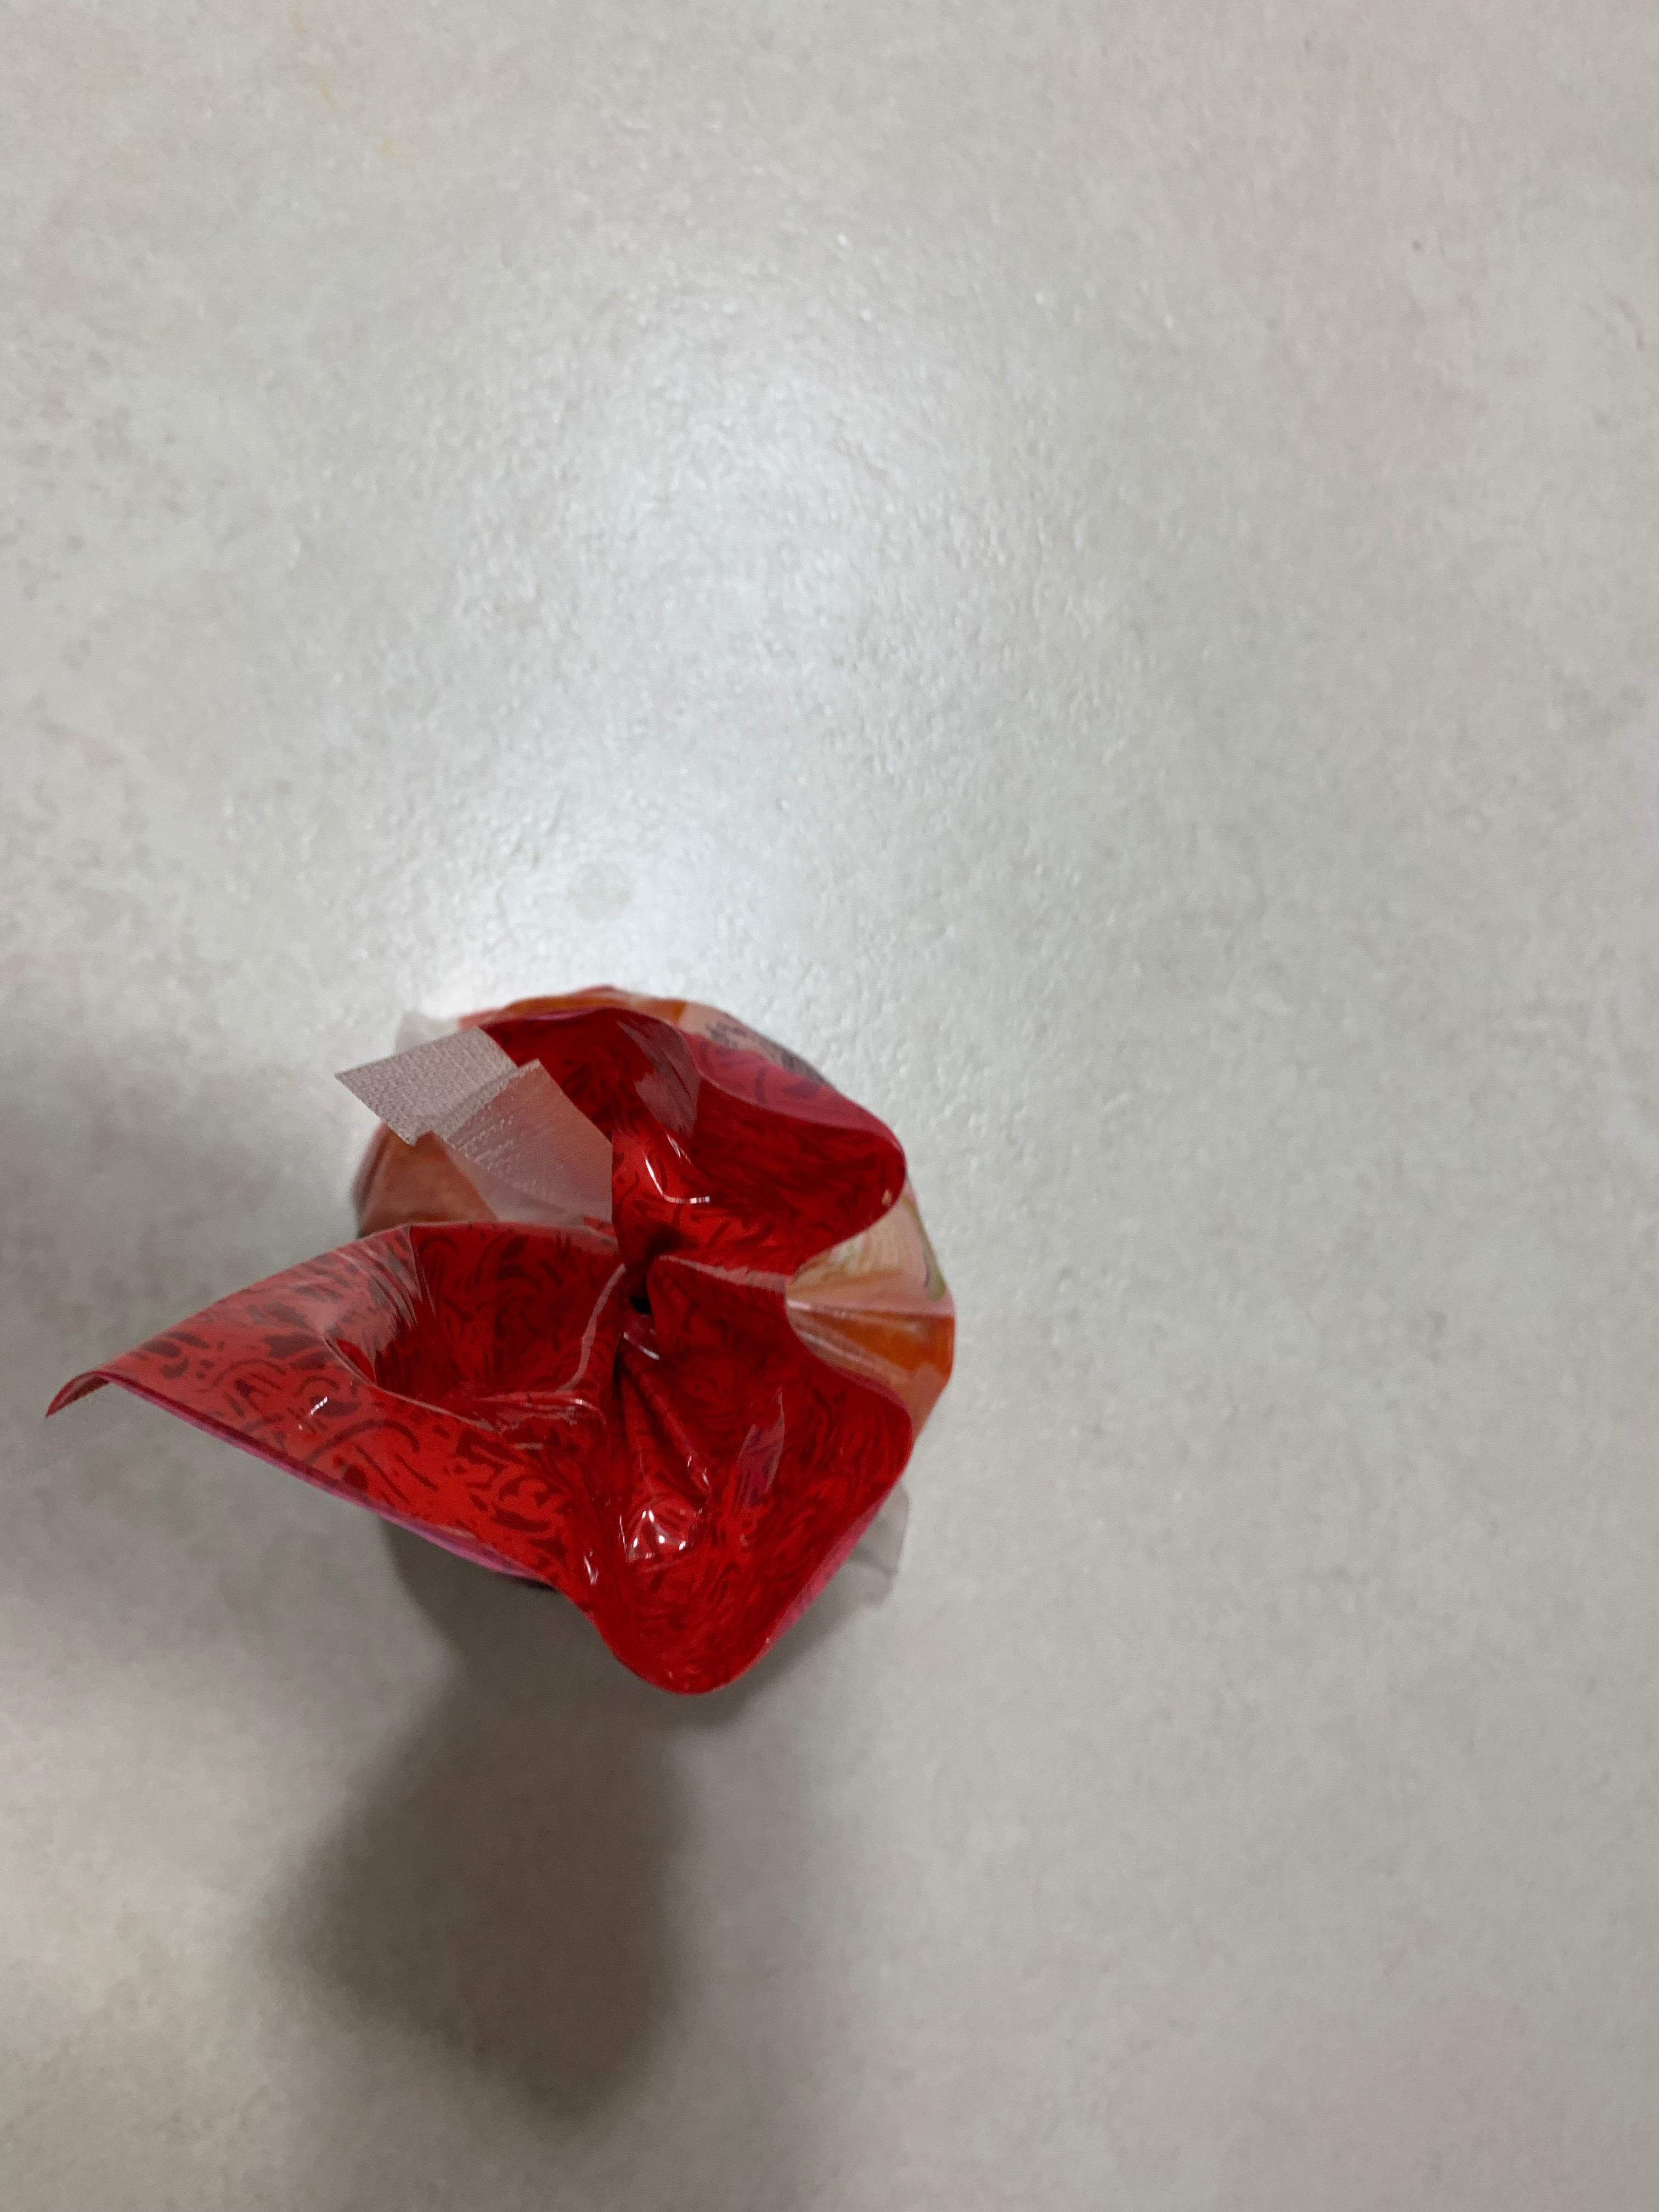kimchi: (59, 991, 962, 1698)
